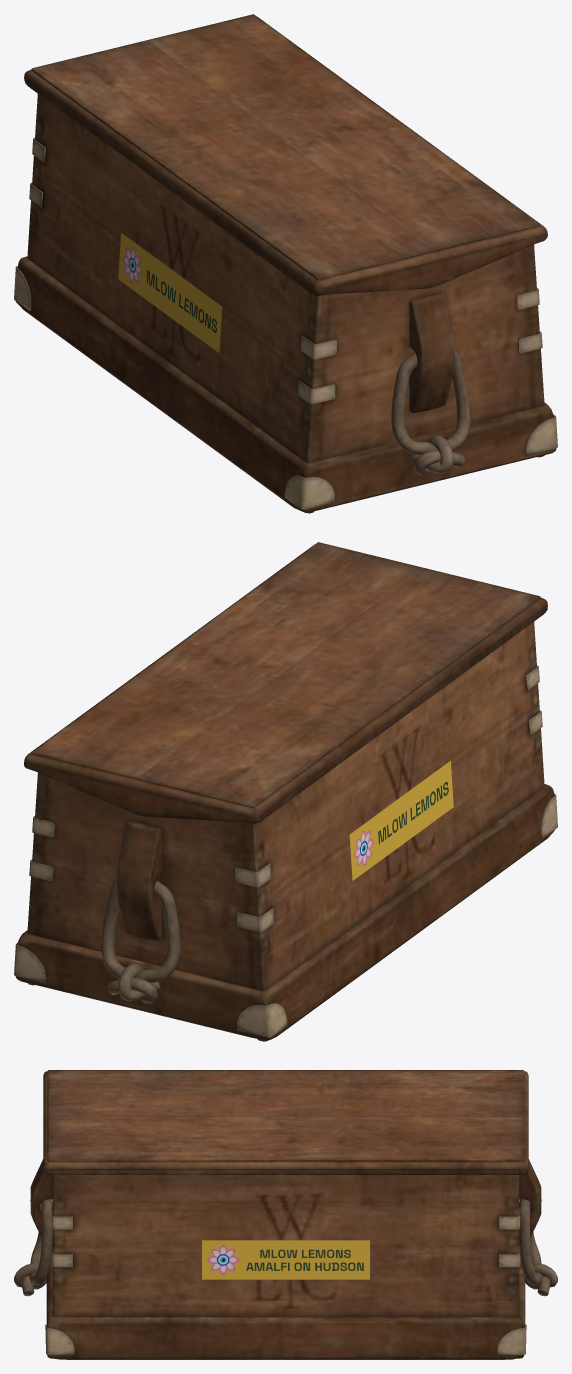
The model's file is nyb_copa_crate2.glb.
3 views of the same model, one above another, from view 1: azimuth 30°, elevation 25°; view 2: azimuth 150°, elevation 25°; view 3: azimuth 270°, elevation 25° (orthographic). The views are drawn at different scales.
Visible parts, largest first — view 1: wooden_crate_02_crate, stk_lbl_29b2be4a6e.png; view 2: wooden_crate_02_crate, stk_lbl_29b2be4a6e.png; view 3: wooden_crate_02_crate, stk_lbl_85c44e4b98.png.
Part boxes in pixels (left/top/right/bottom): wooden_crate_02_crate: left=14, top=14, right=557, bottom=513; stk_lbl_29b2be4a6e.png: left=118, top=233, right=222, bottom=352; wooden_crate_02_crate: left=14, top=542, right=557, bottom=1041; stk_lbl_29b2be4a6e.png: left=349, top=760, right=453, bottom=880; wooden_crate_02_crate: left=14, top=1070, right=557, bottom=1359; stk_lbl_85c44e4b98.png: left=202, top=1240, right=369, bottom=1279.
Bounding box in the file's own units: 0.5291 × 0.464 × 1.17.
Materials: 3 (3 with a texture image).
